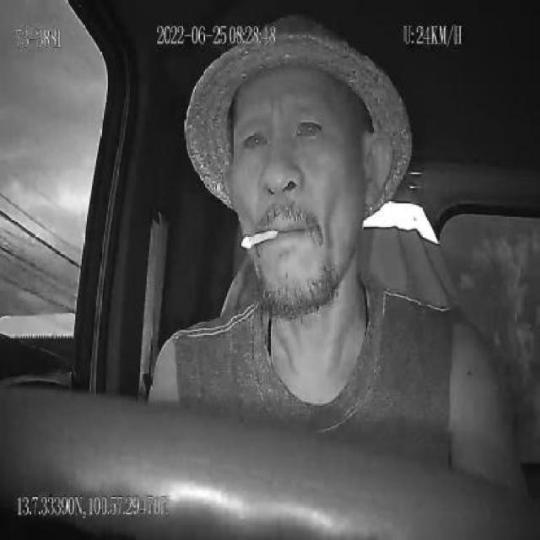smoking: (240, 226, 281, 252)
